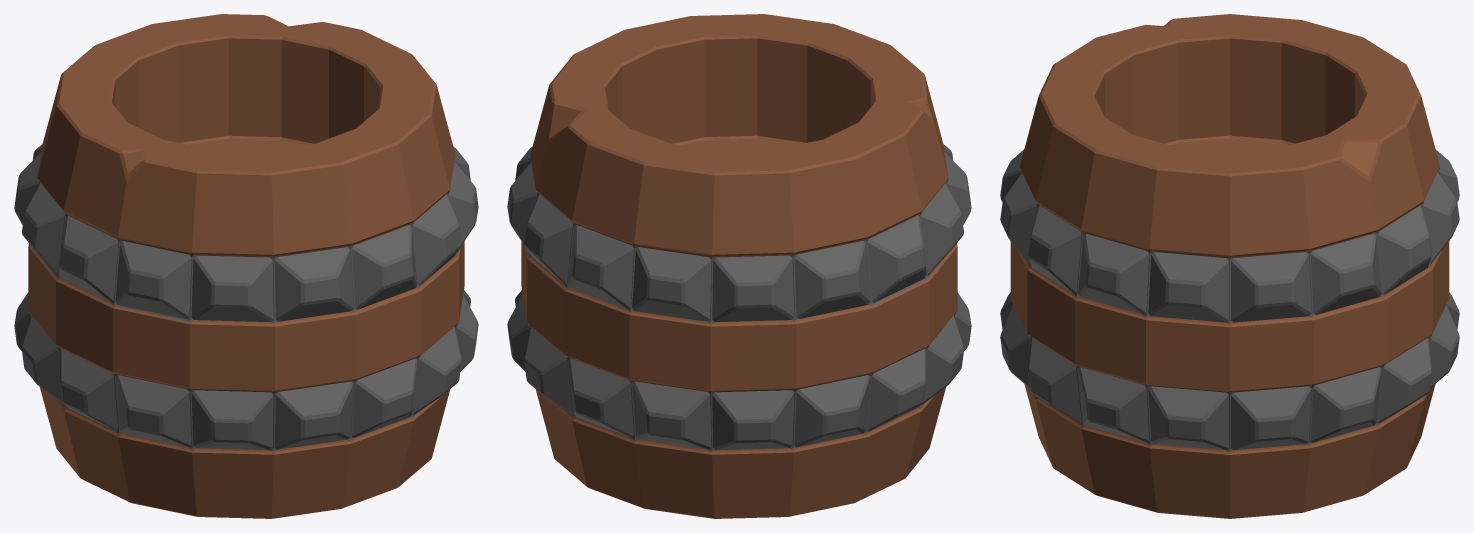
File: fıçı.fbx
3 views of the same model, side by side, from view 1: azimuth 30°, elevation 25°; view 2: azimuth 150°, elevation 25°; view 3: azimuth 270°, elevation 25° (orthographic).
Parts seen in each view (by area): view 1: Cylinder; view 2: Cylinder; view 3: Cylinder.
Boxes of the visible parts, x1,y1,x2,y2 form: Cylinder: [14, 14, 478, 518]; Cylinder: [507, 14, 971, 518]; Cylinder: [1000, 14, 1459, 518].
Size of the model in its own units: 241 by 200 by 241.
